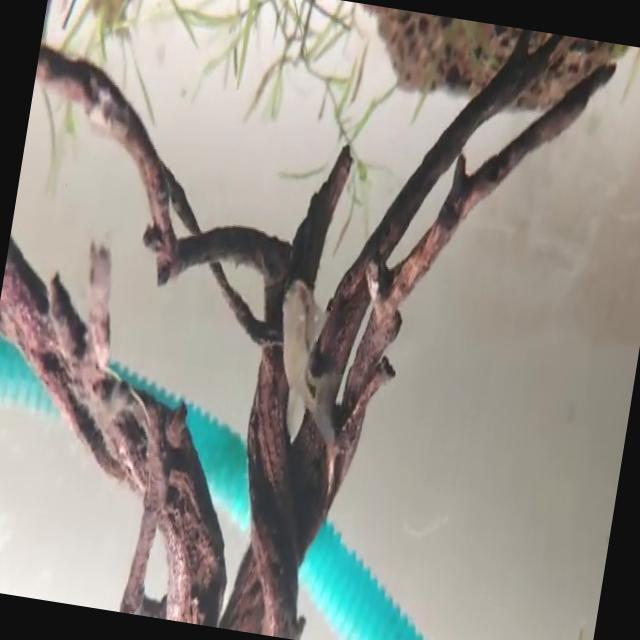Cakil Baligi: (260, 264, 354, 433)
